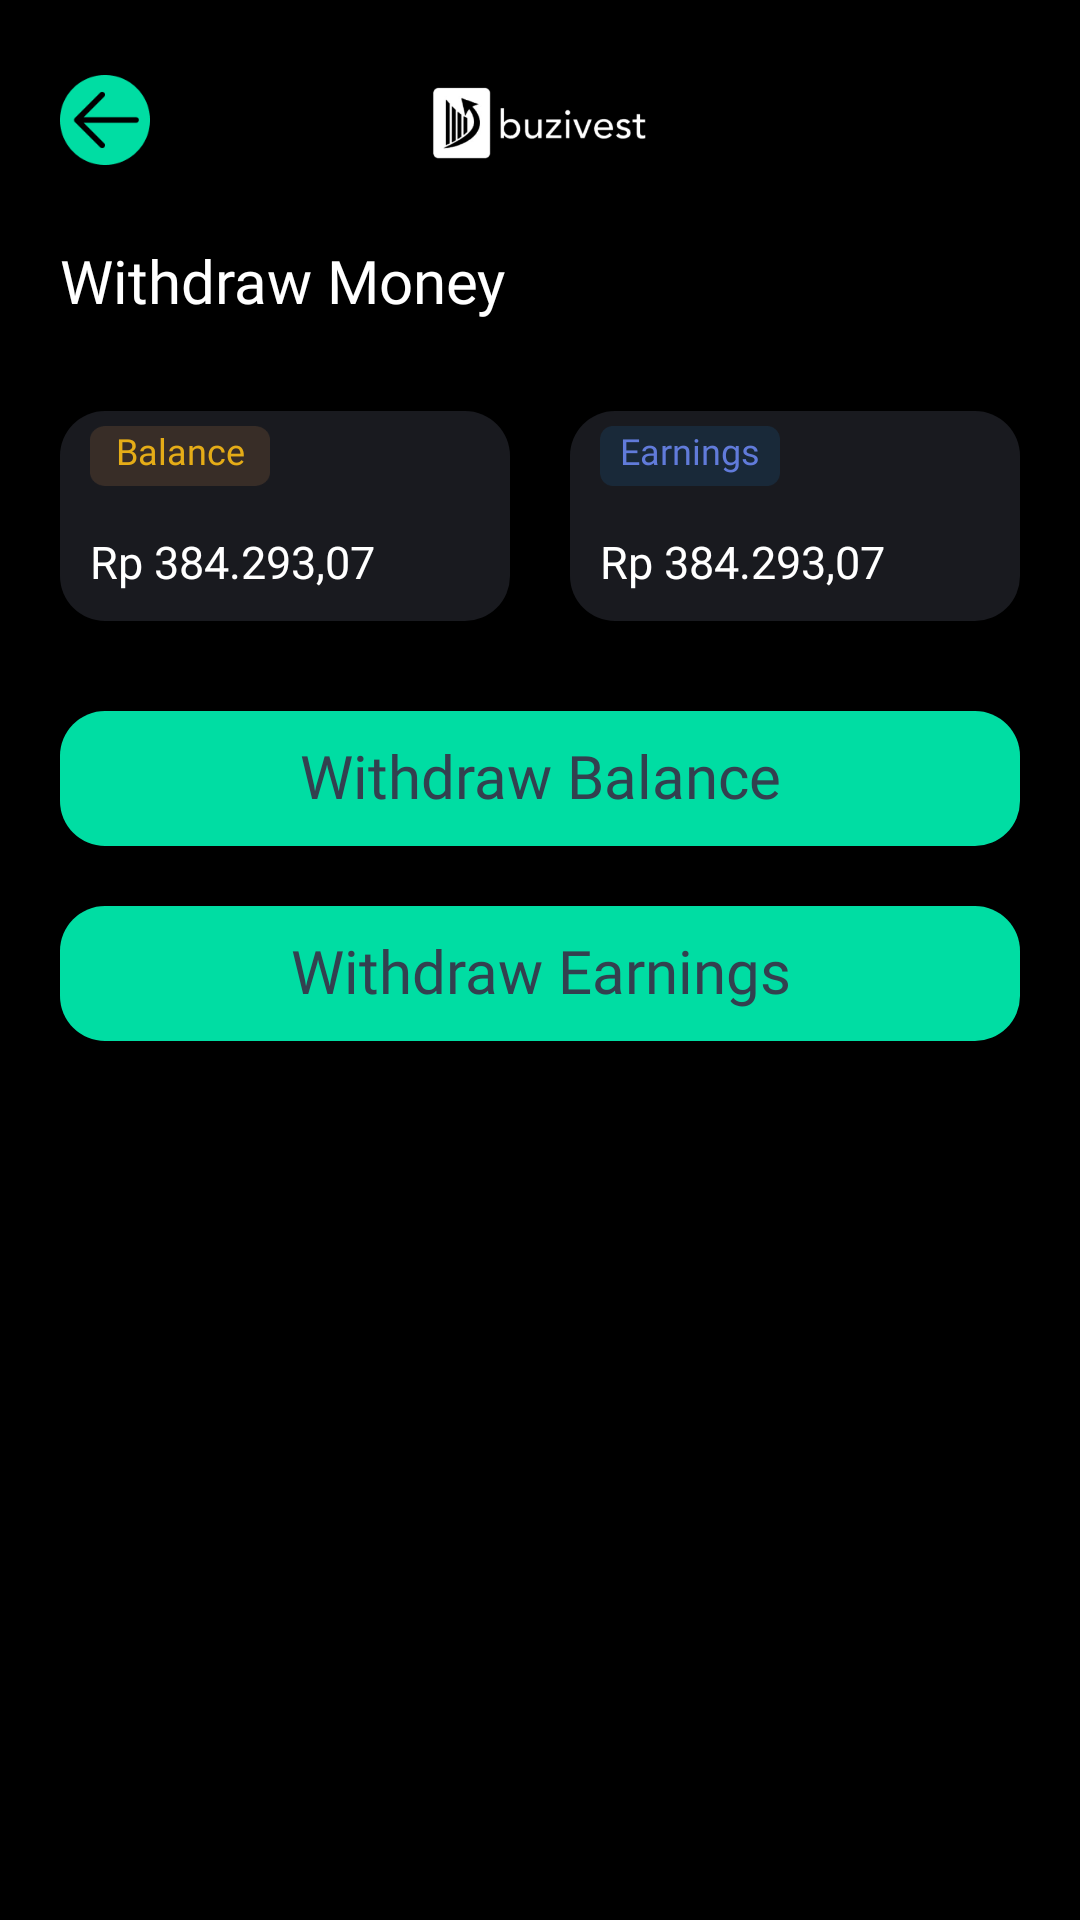

Where icons sit on this 1080×1920 app screen, as (left=x1, top=y1, right=x2, bottom=y2):
detail back: (left=60, top=75, right=150, bottom=165)
